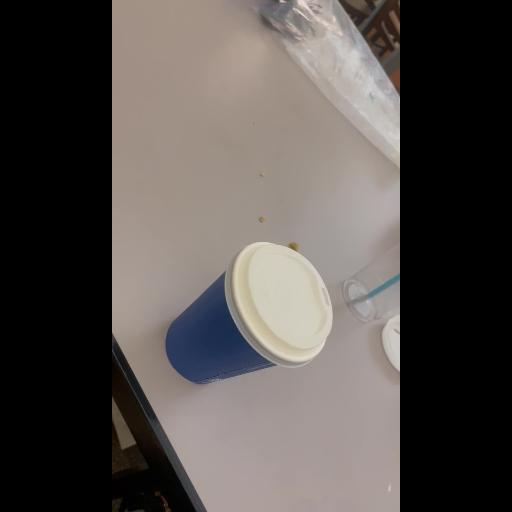lp_paper_cup: (155, 232, 341, 406)
